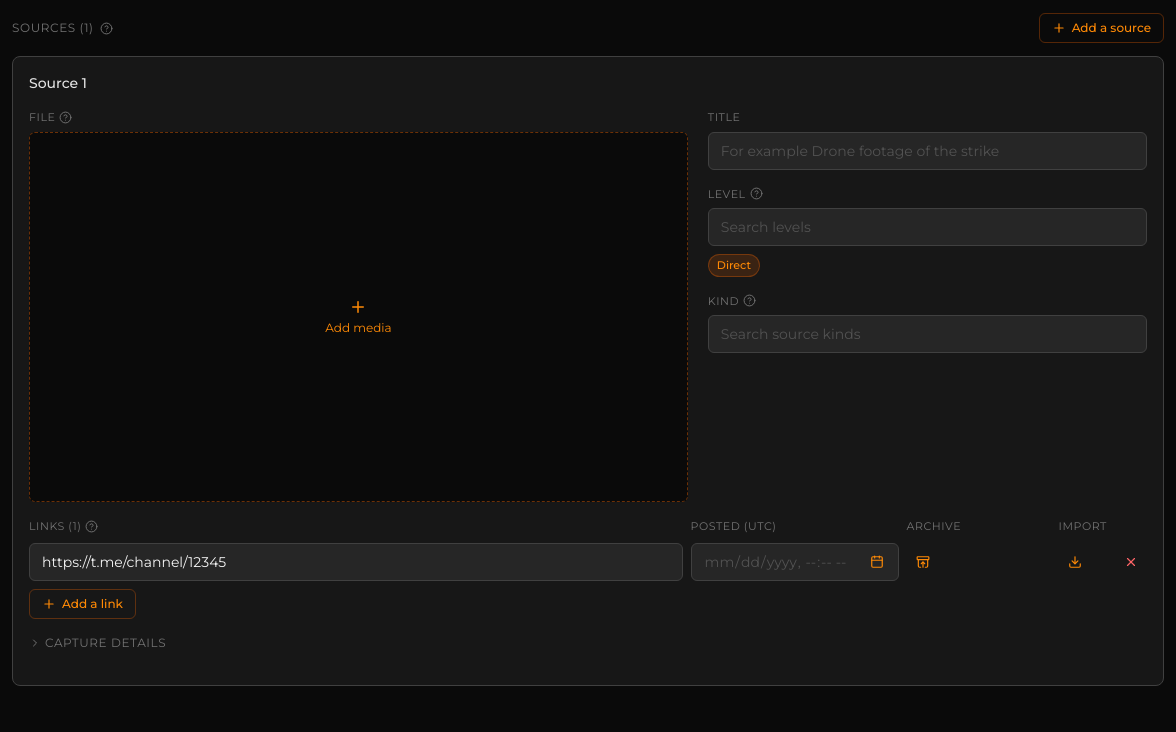
Test: SourcesField › prints an import refusal under the file slot
This screenshot has width=1176, height=732.
Click the button named "Import the file of source 1": (1075,562) [1059,546,1091,578]
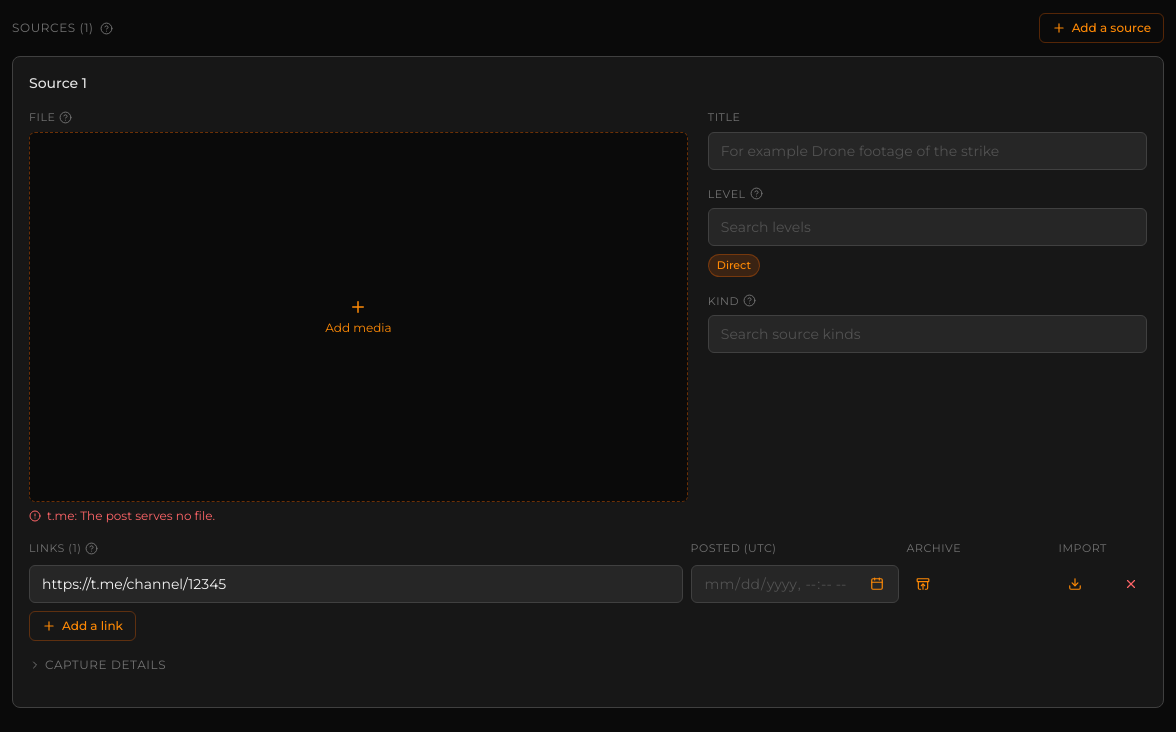
Expected: the message reads "t.me: The post serves no file.", [29,508,215,523]
